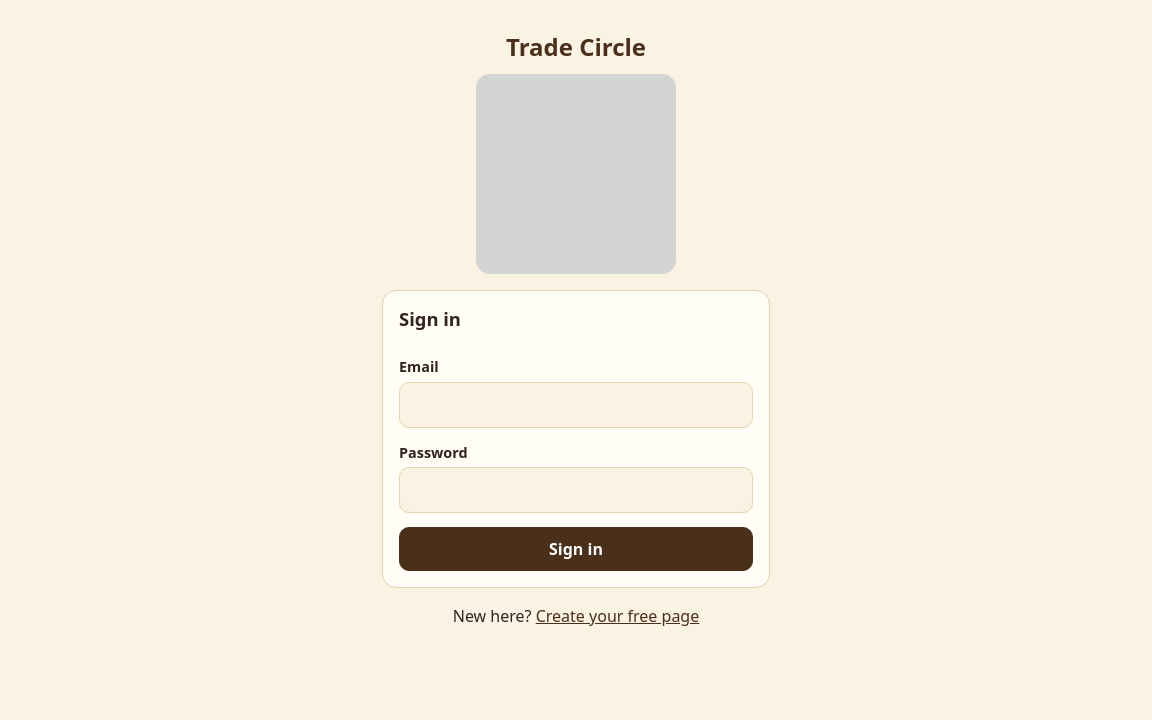
Test: App › sends signed-out visitors to sign in, then into the dashboard
The width and height of the screenshot is (1152, 720).
In the field labelled "Email": (576,405) top-left (399, 382), bottom-right (753, 428), type "spark@example.com"
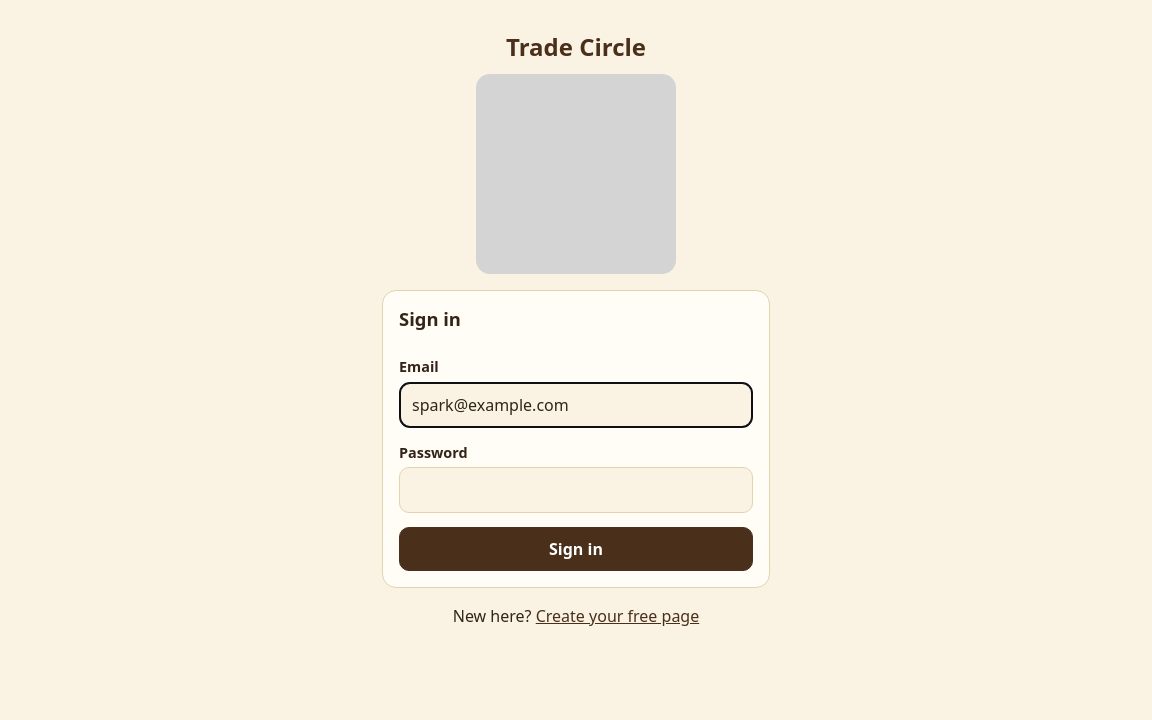
In the password field labelled "Password": (576,490) top-left (399, 467), bottom-right (753, 513), type "long enough pw"
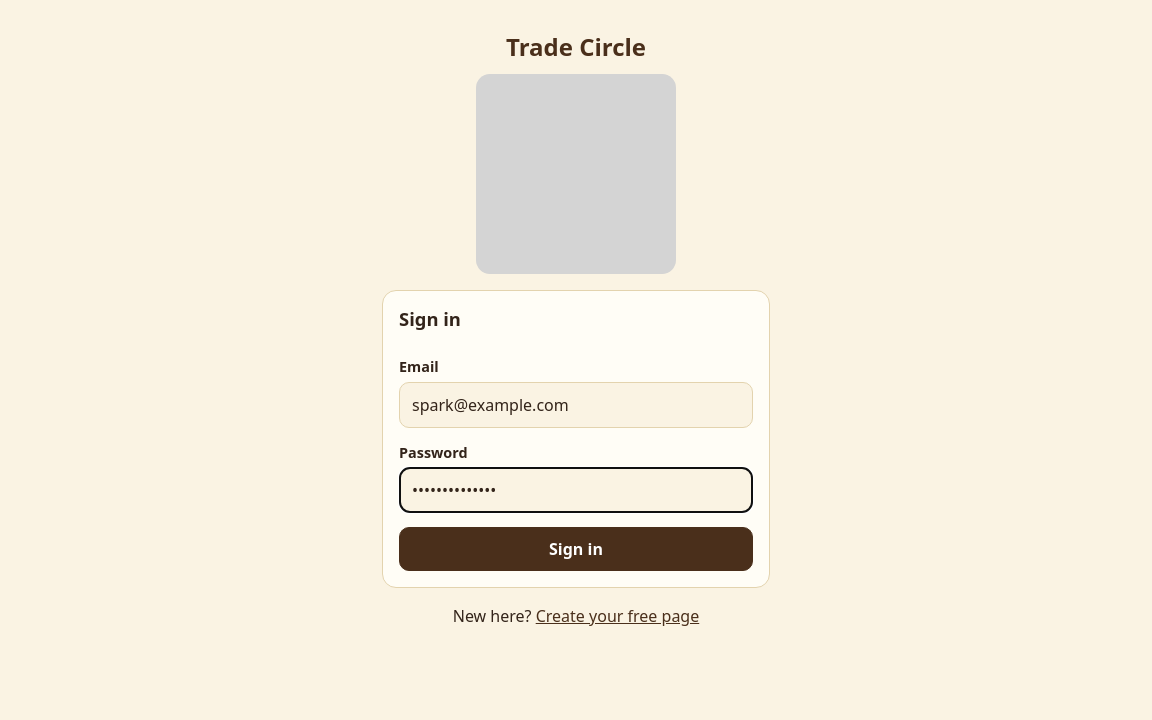
Click the button "Sign in": (576,549) top-left (399, 527), bottom-right (753, 571)
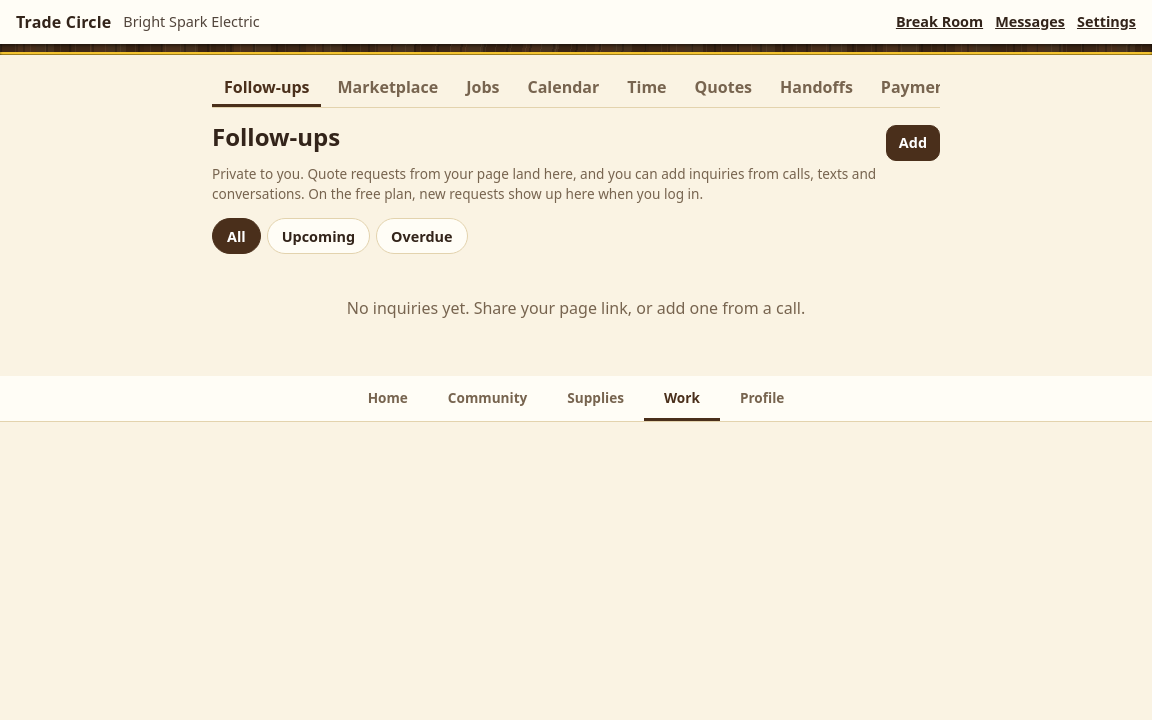
Now the heading "Follow-ups" is shown, box top-left (212, 122), bottom-right (340, 152)
Now the text "No inquiries yet" is shown, box top-left (347, 297), bottom-right (805, 319)
